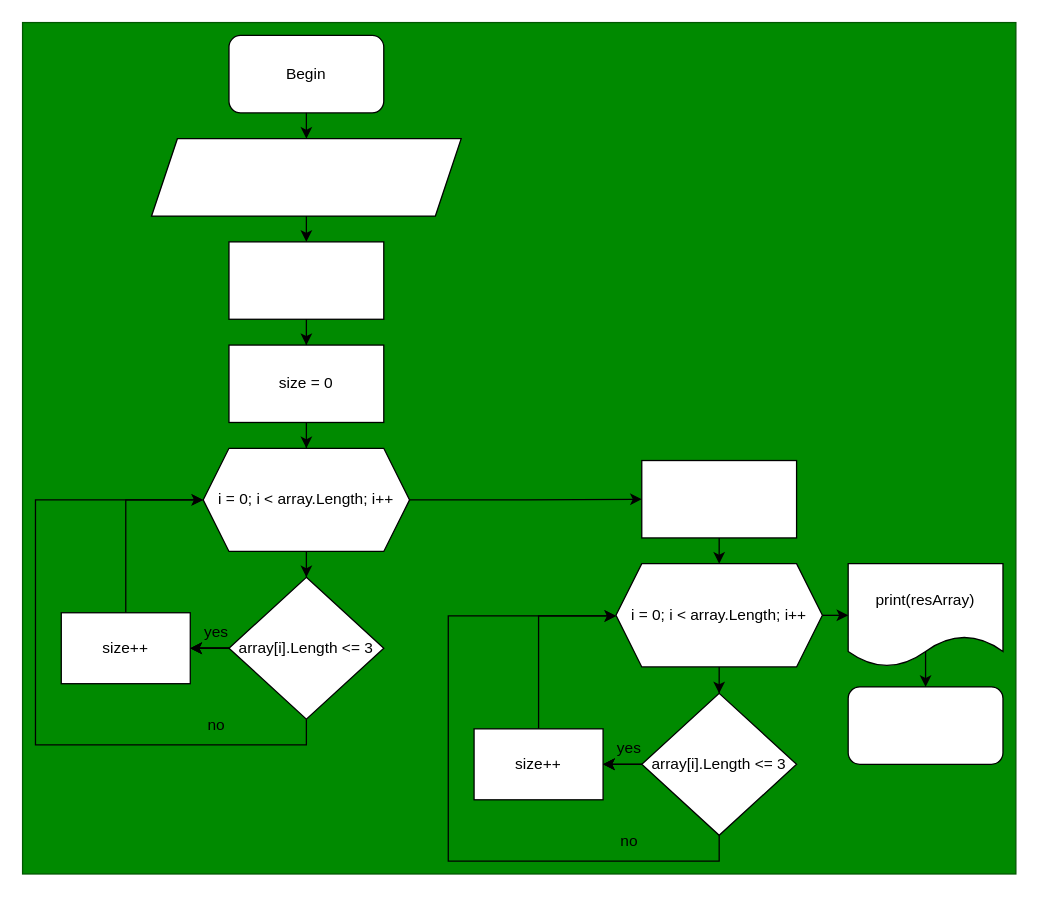
Some shapes in this 1038 by 897 pixel diagram are drawn without their labels. Each missing label, with the centre of its shape:
"Введите элементы массива через запятую:", elements: pixel 305 176
End: pixel 925 725
string[] array = elements.Split(", "): pixel 306 280
string[] resArray = new string[size]: pixel 718 498
